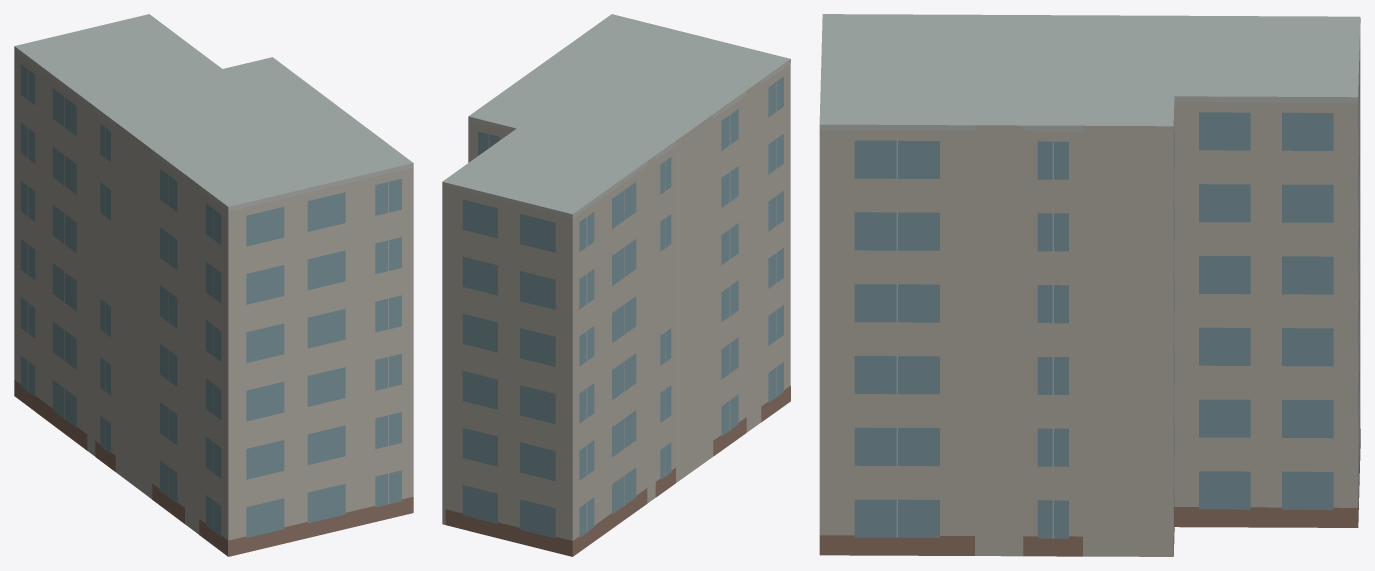
Rendered from survey-upis-33022064.glb.
The picture shows the model from 3 angles, left to right: view 1: azimuth 30°, elevation 25°; view 2: azimuth 150°, elevation 25°; view 3: azimuth 270°, elevation 25°; orthographic projection. The views are drawn at different scales.
Visible parts, largest first — view 1: survey-upis-33022064.tmp; view 2: survey-upis-33022064.tmp; view 3: survey-upis-33022064.tmp.
Boxes of the visible parts, x1,y1,x2,y2 form: survey-upis-33022064.tmp: (14, 14, 413, 556); survey-upis-33022064.tmp: (442, 14, 790, 556); survey-upis-33022064.tmp: (819, 14, 1360, 556).
Bounding box in the file's own units: 10.45 × 18.7 × 21.29.
